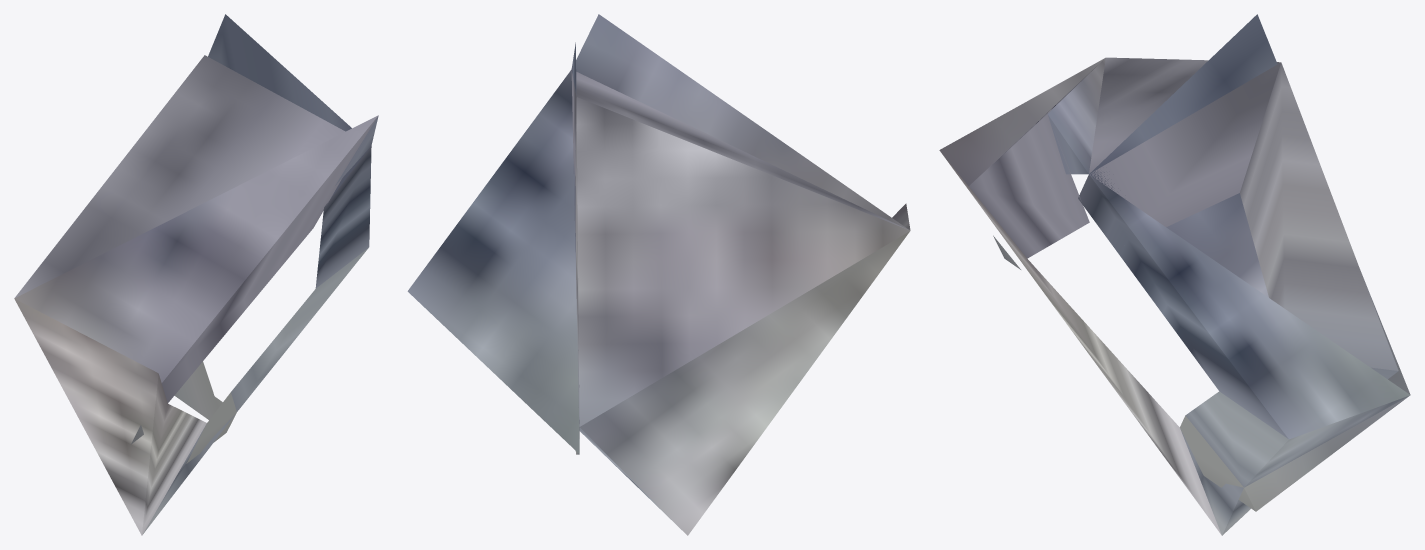
3 renders of one model, left to right at view 1: azimuth 30°, elevation 25°; view 2: azimuth 150°, elevation 25°; view 3: azimuth 270°, elevation 25°, orthographic. The views are drawn at different scales.
Bounding box in the file's own units: 10.99 × 11.84 × 8.73.
Materials: 1 (1 with a texture image).
